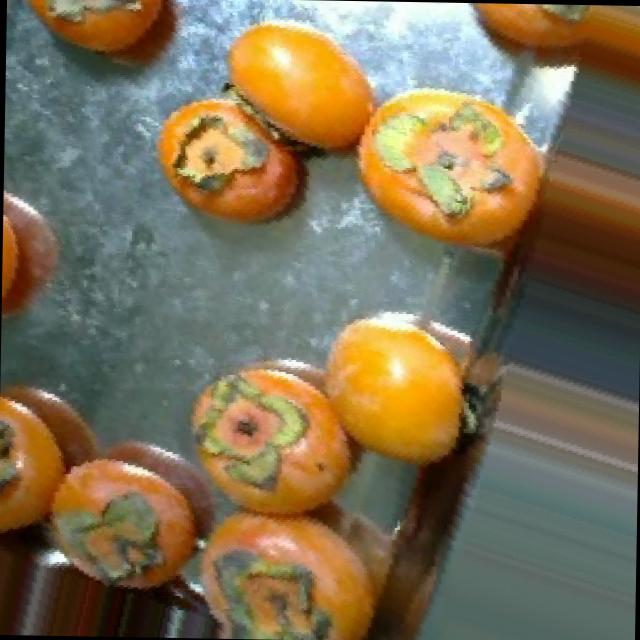Fruit: (201, 0, 405, 173), (138, 79, 324, 244), (8, 0, 204, 89), (168, 366, 299, 478), (0, 172, 79, 339)
